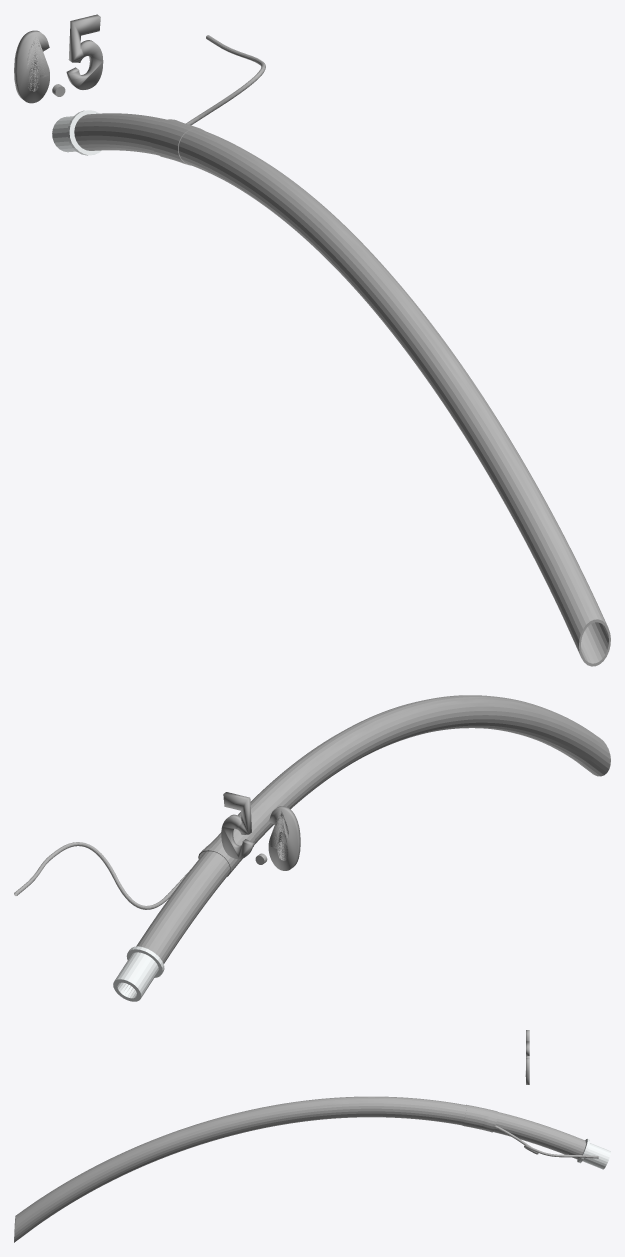
Rendered from 插管導管-本體(無針筒無充氣無鐵絲)-6.5-白色接頭.fbx.
The picture shows the model from 3 angles, top to bottom: view 1: azimuth 30°, elevation 25°; view 2: azimuth 150°, elevation 25°; view 3: azimuth 270°, elevation 25°; orthographic projection. The views are drawn at different scales.
Visible parts, largest first — view 1: NurbsPath_004_20_0, 5; view 2: NurbsPath_004_20_0, 5; view 3: NurbsPath_004_20_0.
Boxes of the visible parts, left/top/right/bottom form: NurbsPath_004_20_0: left=52, top=35, right=610, bottom=666; 5: left=14, top=14, right=103, bottom=103; NurbsPath_004_20_0: left=14, top=695, right=610, bottom=1001; 5: left=221, top=792, right=300, bottom=870; NurbsPath_004_20_0: left=14, top=1096, right=610, bottom=1242.
Bounding box in the file's own units: 76.42 × 90.38 × 267.
